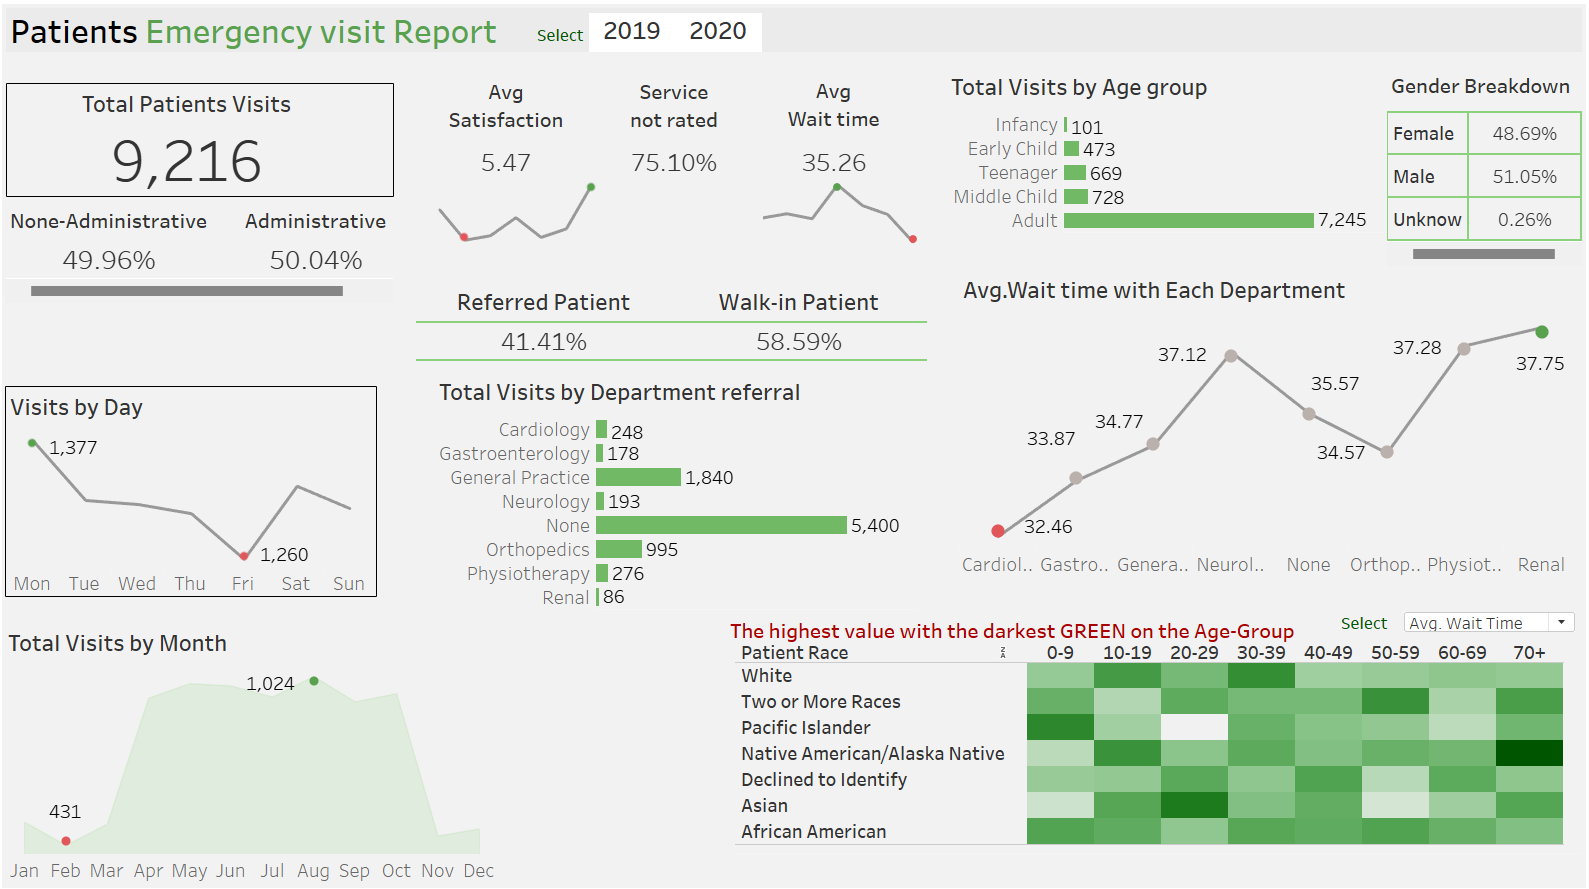

This screenshot's page, from the dashboard's own definition file:
{"tool":"tableau","page":{"name":"Dashboard 1","canvas":[1600,900],"ordinal":0},"visuals":[{"type":"text","box":[8,8,1584,52]},{"type":"worksheet","title":"Select Year","mark":"Automatic","cols":["date"],"box":[595,17,305,39]},{"type":"text","box":[539,25,55,28]},{"type":"worksheet","title":"Age Group","mark":"Automatic","rows":["Calculation_864972672065224714"],"cols":["patient_id"],"box":[953,71,437,200]},{"type":"worksheet","title":"Gender","mark":"Automatic","rows":["patient_gender"],"box":[1392,71,196,201]},{"type":"worksheet","title":"Avg. Wait time","mark":"Automatic","box":[758,76,172,111]},{"type":"worksheet","title":"Avg. Satisfaction","mark":"Automatic","box":[435,77,175,111]},{"type":"worksheet","title":"% Rating","mark":"Automatic","box":[607,77,162,173]},{"type":"worksheet","title":"Total Patients Visits","mark":"Automatic","box":[12,87,388,114]},{"type":"worksheet","title":"Line Satisfaction","mark":"Automatic","rows":["patient_sat_score","patient_sat_score"],"cols":["date"],"box":[436,184,173,64]},{"type":"worksheet","title":"Line Wait time","mark":"Automatic","rows":["patient_waittime","patient_waittime"],"cols":["date"],"box":[758,184,172,66]},{"type":"worksheet","title":"% Administrative","mark":"Automatic","cols":["patient_admin_flag"],"box":[11,204,388,154]},{"type":"worksheet","title":"Wait time Vs Department ","mark":"Line","rows":["patient_waittime","patient_waittime"],"cols":["department_referral"],"box":[965,274,622,330]},{"type":"worksheet","title":"% Referred","mark":"Automatic","cols":["Calculation_864972671846211591"],"box":[421,284,512,82]},{"type":"worksheet","title":"Department Referral","mark":"Automatic","rows":["department_referral"],"cols":["patient_id"],"box":[441,376,482,251]},{"type":"worksheet","title":"Visit by Day","mark":"Automatic","rows":["patient_id","patient_id"],"cols":["date"],"box":[11,390,372,211]},{"type":"text","box":[732,602,615,64]},{"type":"text","box":[1343,613,55,28]},{"type":"parameter","param":"[Parameters].[Parameter 1]","box":[1407,613,177,33]},{"type":"worksheet","title":"Visit by Month","mark":"Automatic","rows":["patient_id","patient_id"],"cols":["date"],"box":[10,627,497,260]},{"type":"worksheet","title":"Time & Age Bin","mark":"Automatic","rows":["patient_race"],"cols":["Patient Age (bin)"],"box":[737,642,855,211]},{"type":"worksheet","title":"Sat & Age Bin","mark":"Automatic","rows":["patient_race"],"cols":["Patient Age (bin)"],"box":[737,853,855,9]}]}

Visuals, with their boxes in screenshot pixels (x1, y1, x2, y2), scaled from the page's 1600x900 canvas onto the 1589x889 screenshot:
text: {"x1": 8, "y1": 8, "x2": 1581, "y2": 59}
"Select Year" worksheet: {"x1": 591, "y1": 17, "x2": 894, "y2": 55}
text: {"x1": 535, "y1": 25, "x2": 590, "y2": 52}
"Age Group" worksheet: {"x1": 946, "y1": 70, "x2": 1380, "y2": 268}
"Gender" worksheet: {"x1": 1382, "y1": 70, "x2": 1577, "y2": 269}
"Avg. Wait time" worksheet: {"x1": 753, "y1": 75, "x2": 924, "y2": 185}
"Avg. Satisfaction" worksheet: {"x1": 432, "y1": 76, "x2": 606, "y2": 186}
"% Rating" worksheet: {"x1": 603, "y1": 76, "x2": 764, "y2": 247}
"Total Patients Visits" worksheet: {"x1": 12, "y1": 86, "x2": 397, "y2": 199}
"Line Satisfaction" worksheet: {"x1": 433, "y1": 182, "x2": 605, "y2": 245}
"Line Wait time" worksheet: {"x1": 753, "y1": 182, "x2": 924, "y2": 247}
"% Administrative" worksheet: {"x1": 11, "y1": 202, "x2": 396, "y2": 354}
"Wait time Vs Department " worksheet (Line marks): {"x1": 958, "y1": 271, "x2": 1576, "y2": 597}
"% Referred" worksheet: {"x1": 418, "y1": 281, "x2": 927, "y2": 362}
"Department Referral" worksheet: {"x1": 438, "y1": 371, "x2": 917, "y2": 619}
"Visit by Day" worksheet: {"x1": 11, "y1": 385, "x2": 380, "y2": 594}
text: {"x1": 727, "y1": 595, "x2": 1338, "y2": 658}
text: {"x1": 1334, "y1": 606, "x2": 1388, "y2": 633}
parameter: {"x1": 1397, "y1": 606, "x2": 1573, "y2": 638}
"Visit by Month" worksheet: {"x1": 10, "y1": 619, "x2": 504, "y2": 876}
"Time & Age Bin" worksheet: {"x1": 732, "y1": 634, "x2": 1581, "y2": 843}
"Sat & Age Bin" worksheet: {"x1": 732, "y1": 843, "x2": 1581, "y2": 851}
